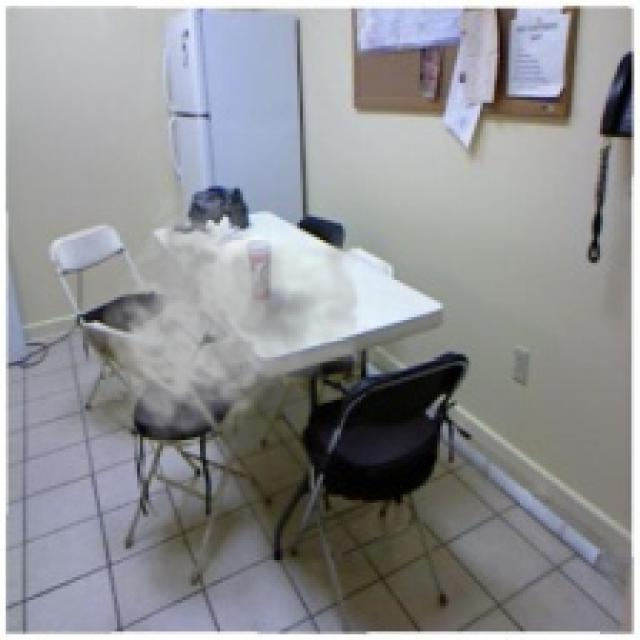smoke: (100, 188, 380, 448)
